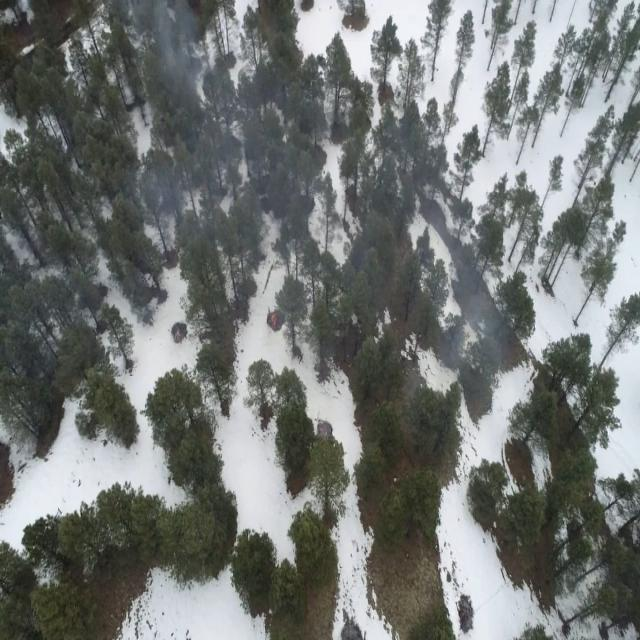Fire: (264, 305, 280, 331), (173, 325, 183, 344)
Smoke: (98, 0, 278, 228)
